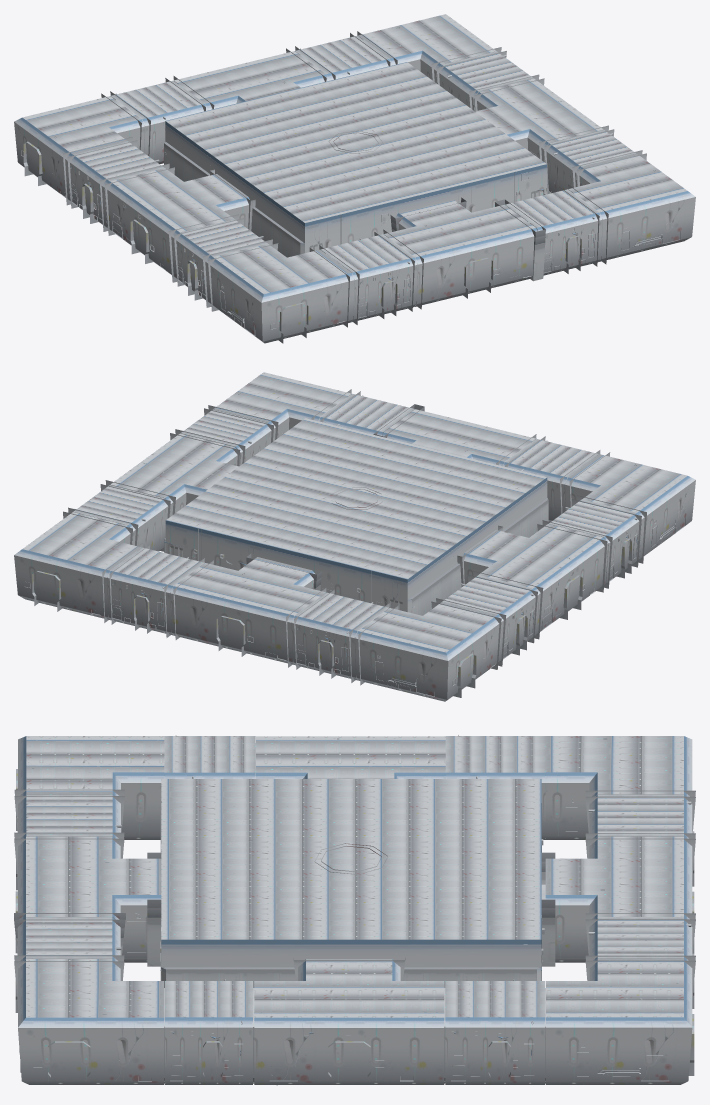
Rendered from Combined_Mesh_root_scene__16_1995fef1__ZombiesII_laboratory_01_d_47037629_c1f257.obj.
The picture shows the model from 3 angles, top to bottom: view 1: azimuth 30°, elevation 25°; view 2: azimuth 150°, elevation 25°; view 3: azimuth 270°, elevation 25°; orthographic projection. The views are drawn at different scales.
Bounding box in the file's own units: 72.61 × 10.34 × 71.75.
Materials: 726 (726 with a texture image).
